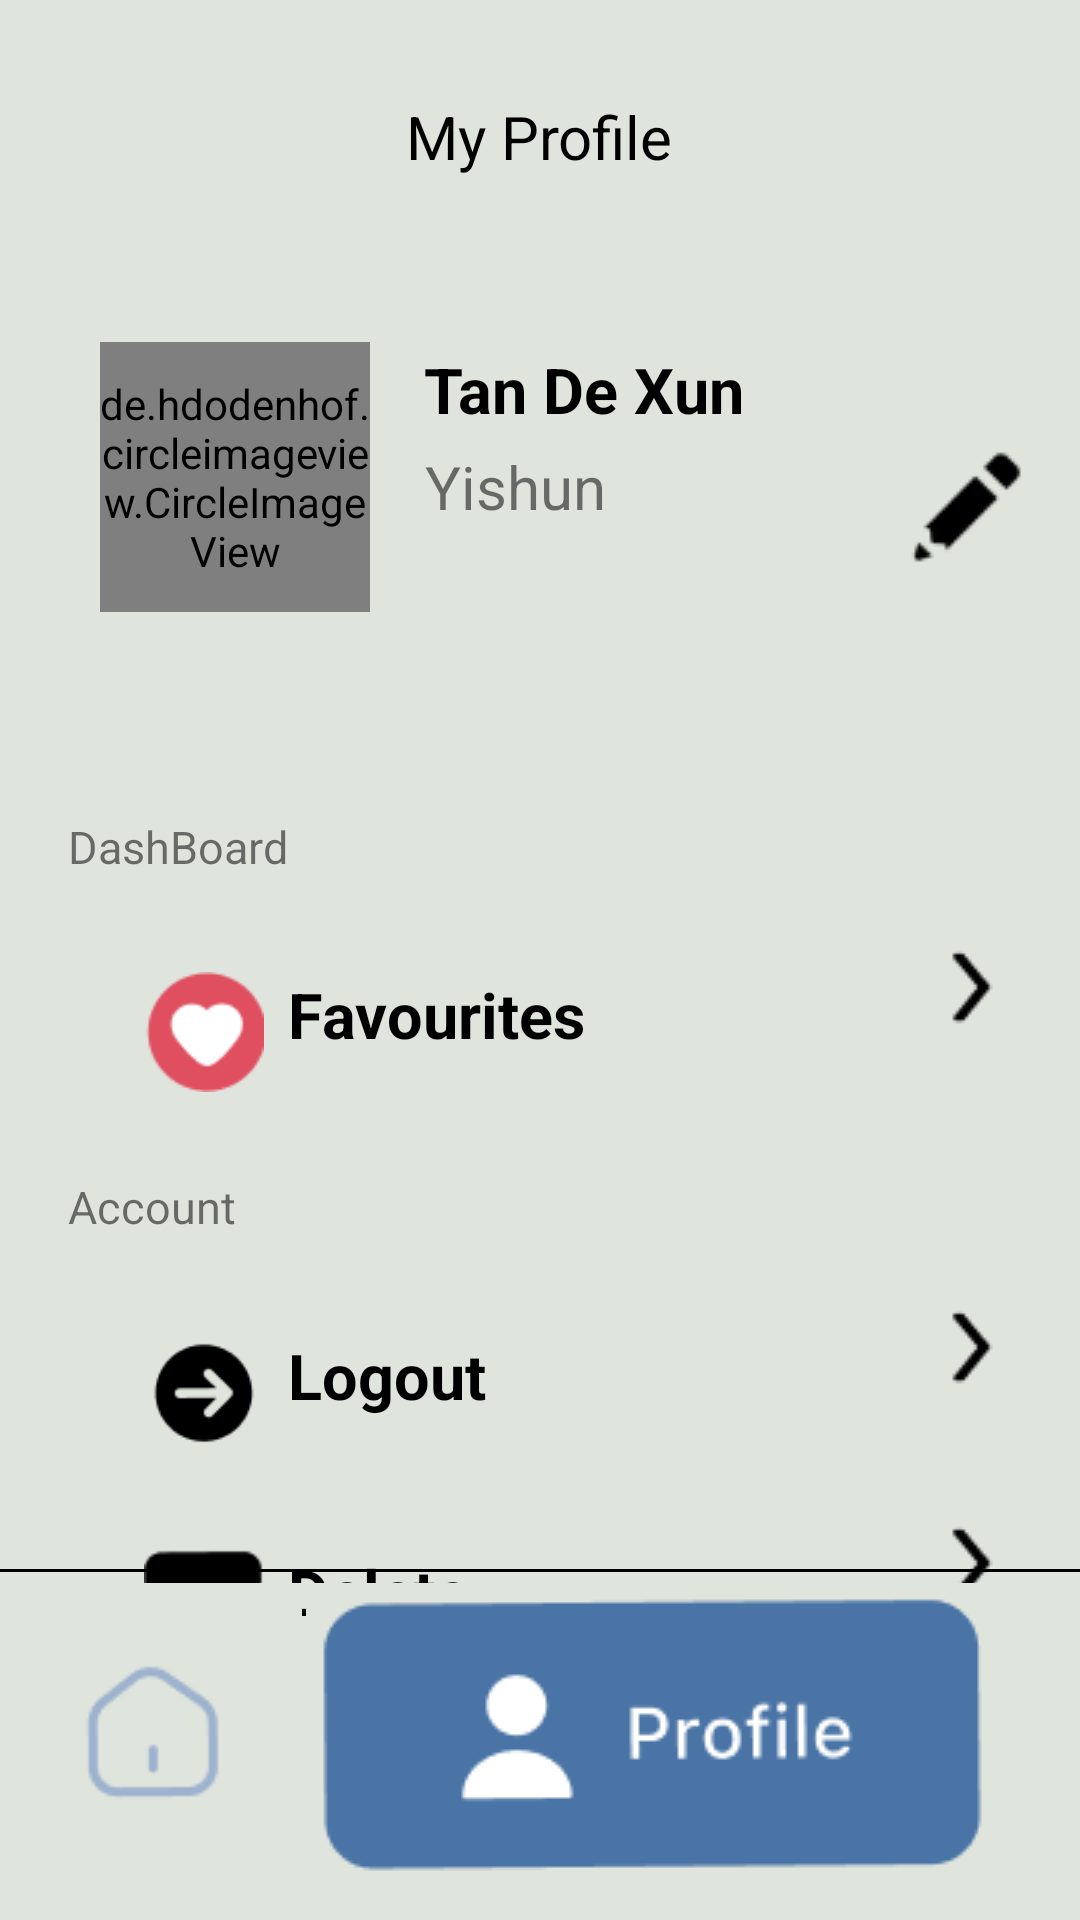

Where icons sit on this 1080 × 1920 app screen, as {"x1": x1, "y1": y1, "x2": x2, "y2": y2}:
edit: {"x1": 913, "y1": 452, "x2": 1021, "y2": 562}
heart: {"x1": 147, "y1": 972, "x2": 264, "y2": 1092}
